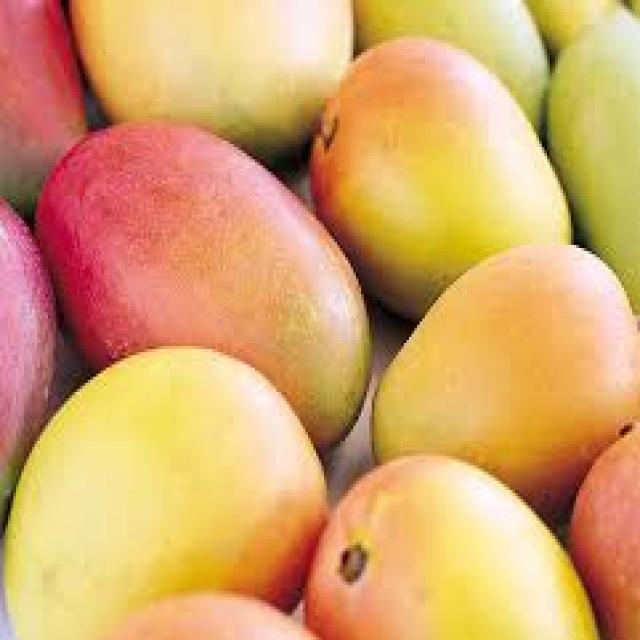organic waste: (29, 114, 369, 462), (3, 340, 329, 637), (369, 239, 637, 520), (305, 31, 571, 300), (295, 447, 595, 637), (63, 0, 353, 162), (542, 6, 637, 312), (348, 0, 544, 144), (0, 0, 90, 223), (0, 193, 56, 539), (568, 416, 638, 637), (88, 585, 342, 637)
